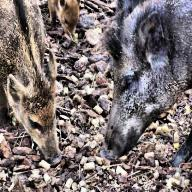boar: (84, 0, 191, 169), (0, 0, 77, 175)
